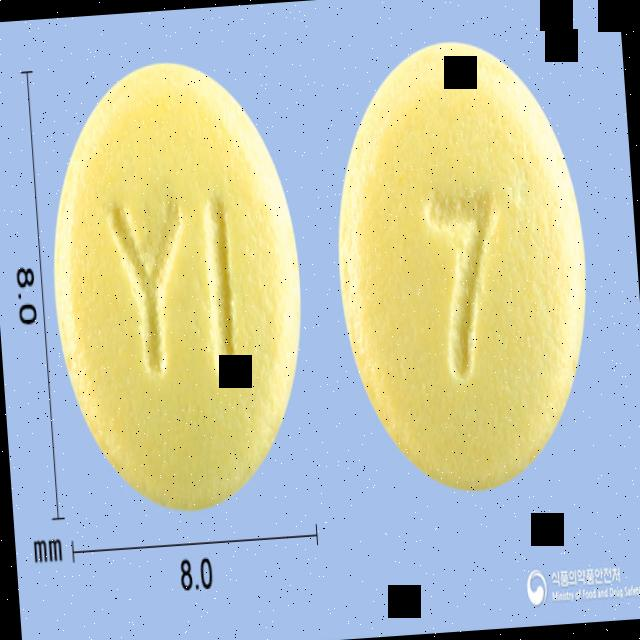Levopa: (323, 29, 602, 497), (38, 52, 314, 520)
